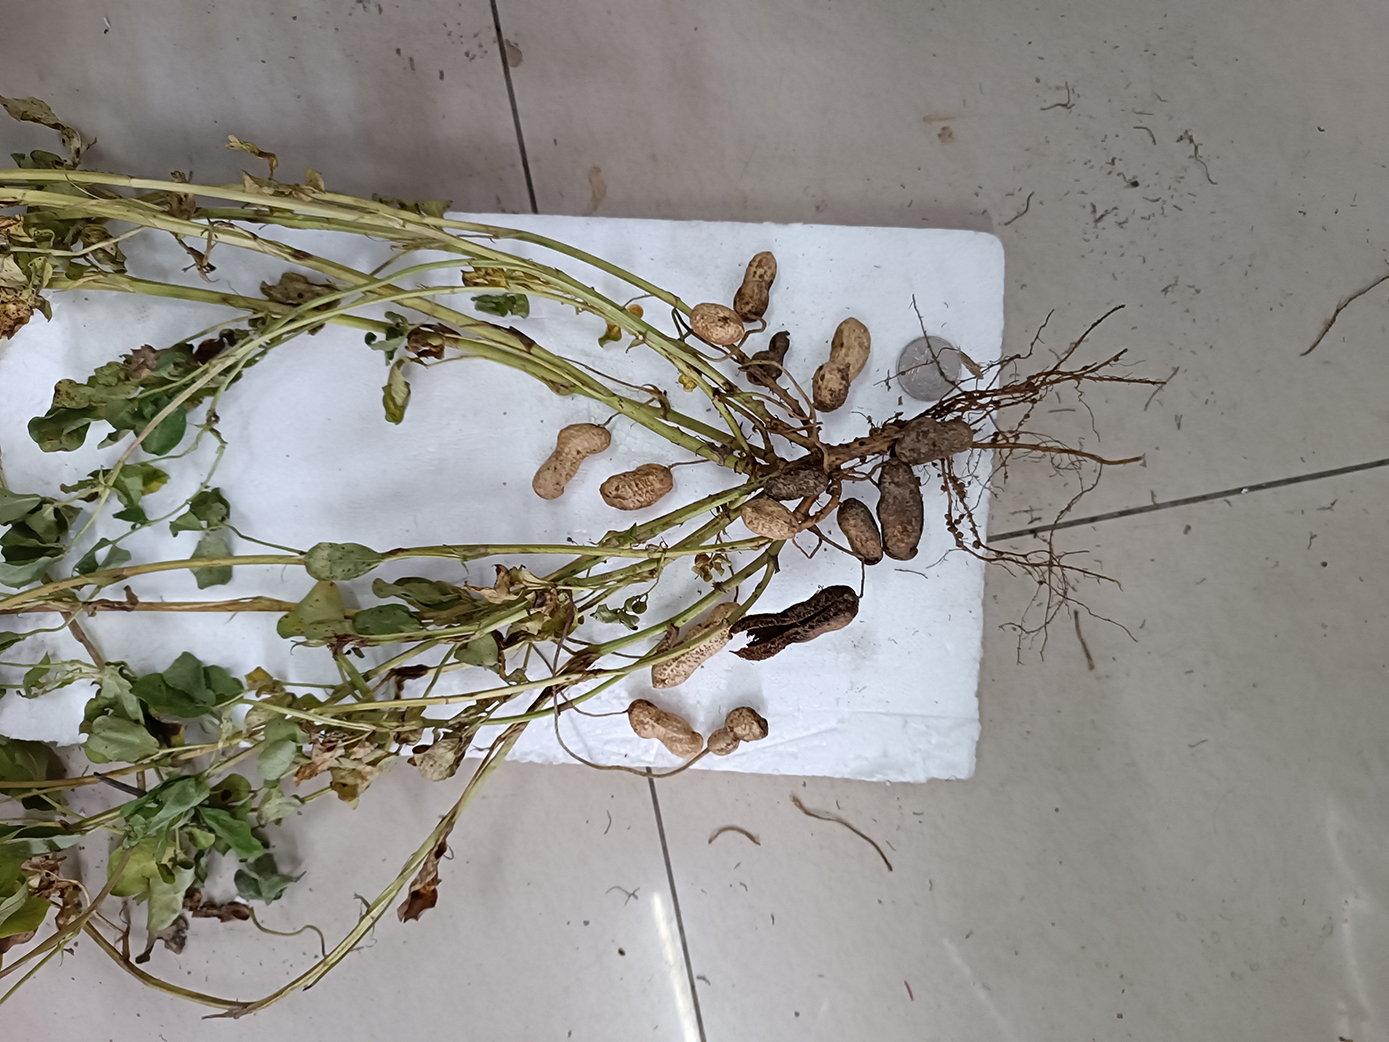h: (649, 600, 745, 691), (532, 422, 612, 499), (811, 315, 872, 412), (628, 698, 704, 759), (598, 463, 673, 511), (705, 706, 767, 756), (740, 496, 800, 537), (688, 303, 745, 345)
l: (732, 586, 860, 661), (875, 461, 924, 561), (893, 416, 973, 462), (732, 250, 778, 322), (836, 497, 883, 564), (749, 332, 791, 386), (765, 468, 827, 500)
